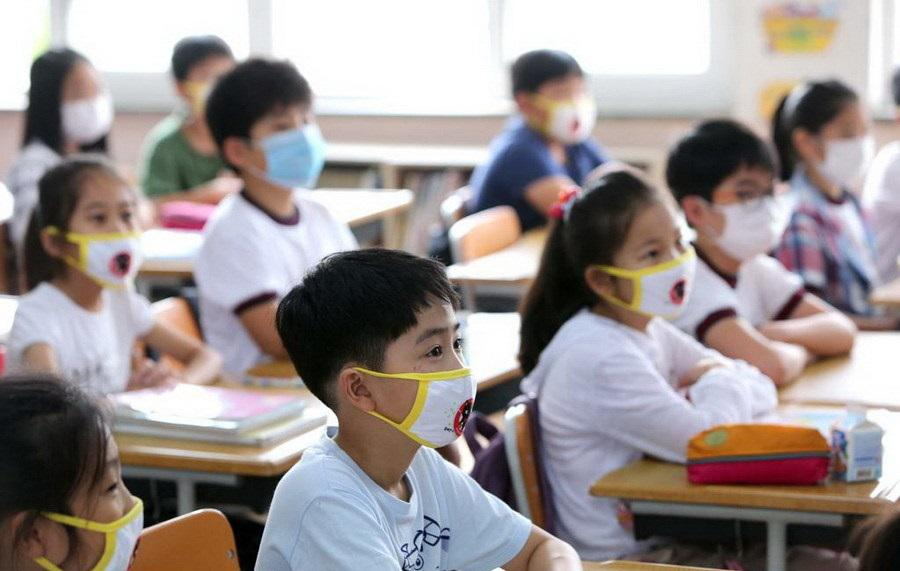OK: (605, 220, 701, 316), (245, 109, 324, 188), (707, 180, 785, 258), (802, 121, 874, 189), (531, 75, 601, 142), (50, 79, 115, 144)
WRONG: (369, 329, 482, 443), (44, 468, 148, 571), (60, 200, 143, 283)
